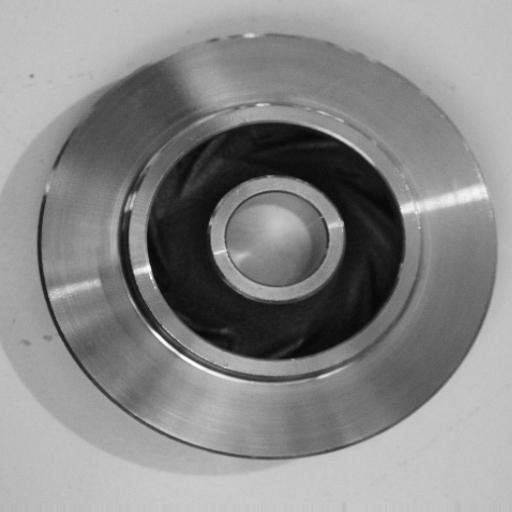scratch: (188, 11, 315, 62), (385, 147, 435, 260), (180, 93, 328, 122), (115, 148, 166, 221)
unpolished_casting: (33, 26, 502, 463)
